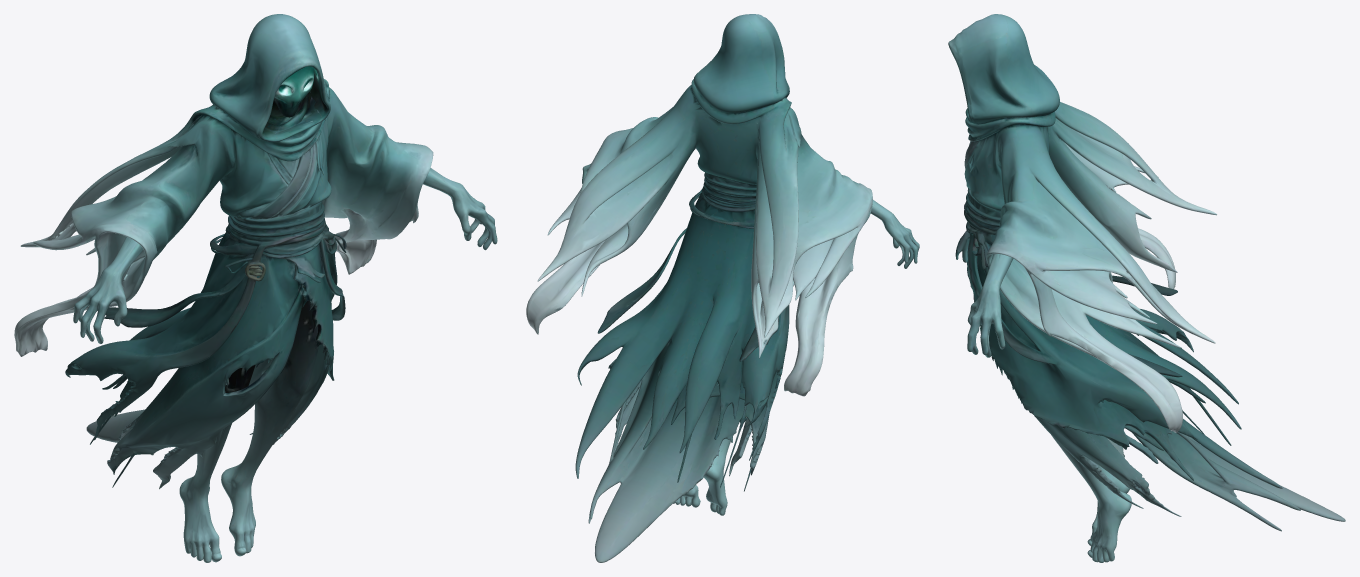
The model's file is ghost.glb.
The picture shows the model from 3 angles, left to right: view 1: azimuth 30°, elevation 25°; view 2: azimuth 150°, elevation 25°; view 3: azimuth 270°, elevation 25°; orthographic projection. The views are drawn at different scales.
Visible parts, largest first — view 1: node_0; view 2: node_0; view 3: node_0.
Part boxes in pixels (x1,y1,x2,y2): node_0: (14, 14, 497, 562); node_0: (526, 14, 919, 562); node_0: (948, 14, 1345, 562).
Bounding box in the file's own units: 0.7876 × 1.06 × 0.7112.
Materials: 1 (1 with a texture image).
